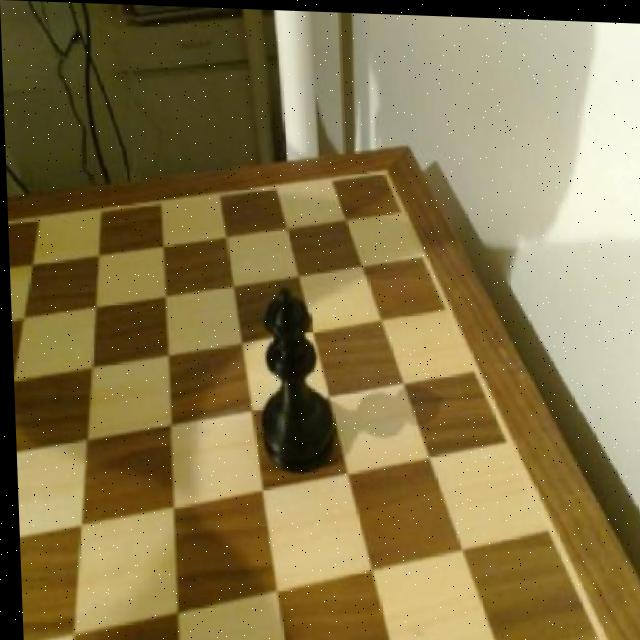black-pawn: (253, 282, 337, 473)
